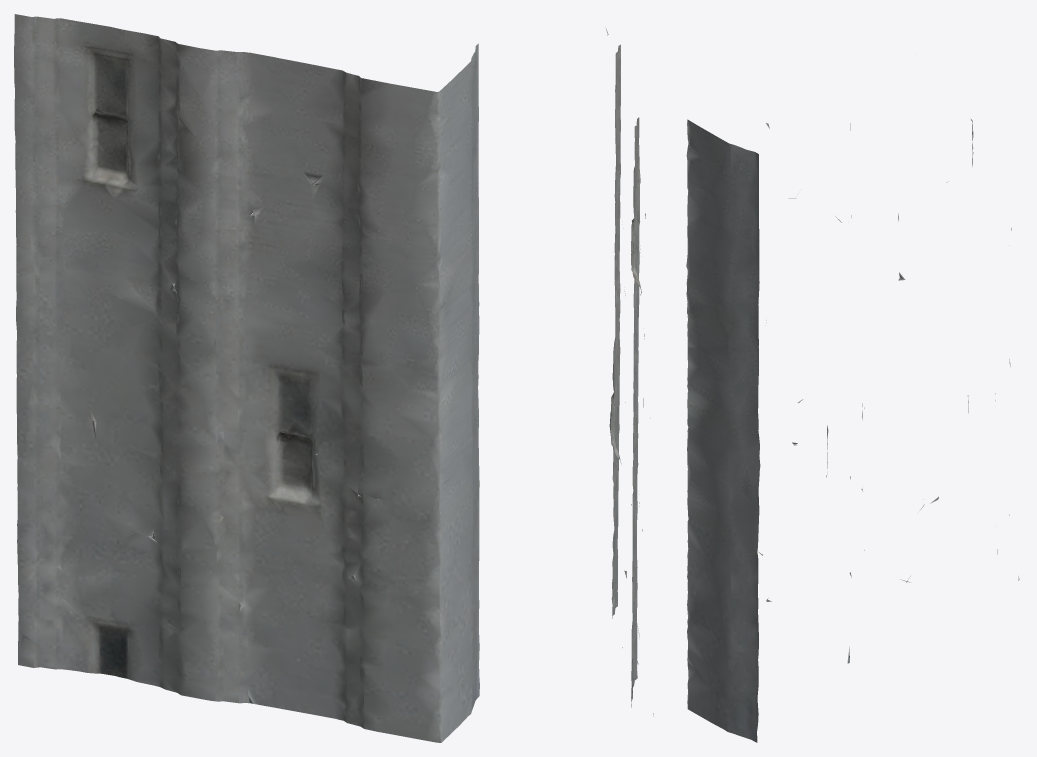
3 views of the same model, side by side, from view 1: azimuth 30°, elevation 25°; view 2: azimuth 150°, elevation 25°; view 3: azimuth 270°, elevation 25° (orthographic). The views are drawn at different scales.
Bounding box in the file's own units: 5.34 × 10.43 × 5.4.
Materials: 1 (1 with a texture image).
